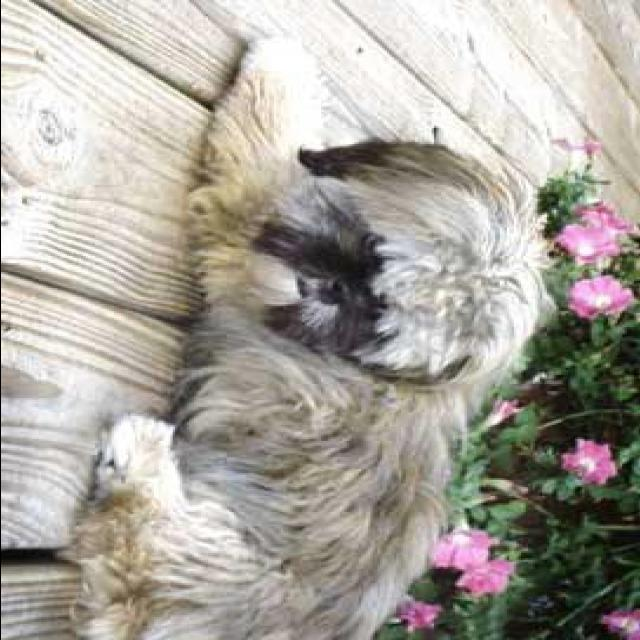shih_tzu: (73, 36, 556, 640)
